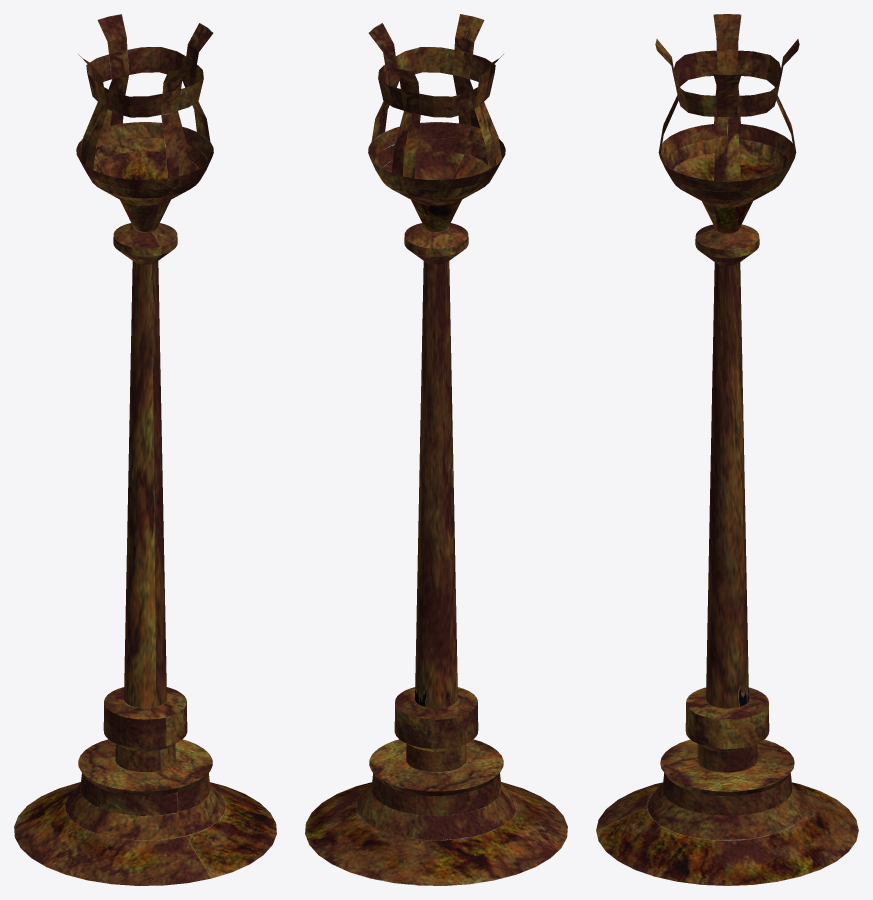
Rendered from street_lamp.dae.
3 views of the same model, side by side, from view 1: azimuth 30°, elevation 25°; view 2: azimuth 150°, elevation 25°; view 3: azimuth 270°, elevation 25° (orthographic).
Visible parts, largest first — view 1: Cone; view 2: Cone; view 3: Cone.
Boxes of the visible parts, x1=… form: Cone: x1=14, y1=14, x2=276, y2=885; Cone: x1=305, y1=14, x2=567, y2=885; Cone: x1=596, y1=14, x2=858, y2=885.
Bounding box in the file's own units: 0.6469 × 0.6469 × 2.13.
1 material, 1 textured.
